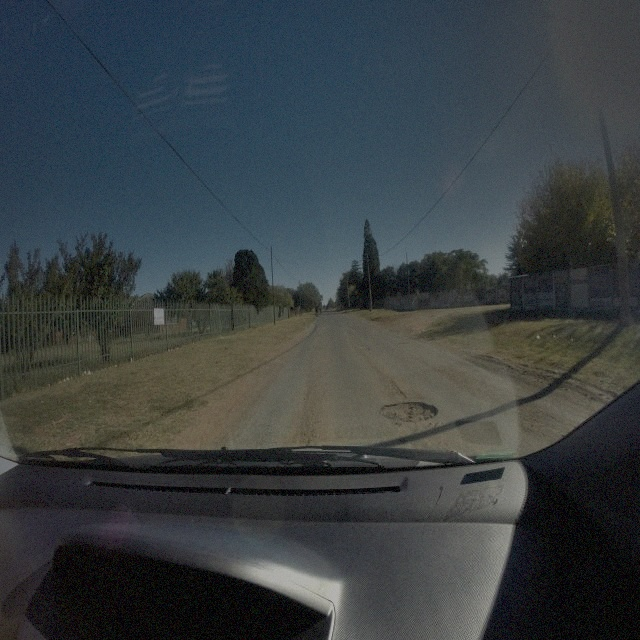pothole: (378, 398, 438, 426)
